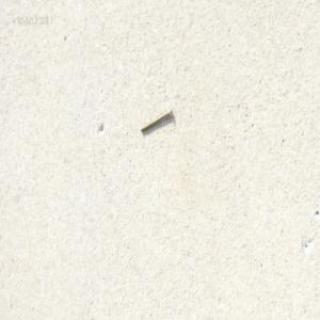Bolttrack_idkeyframe: (138, 106, 172, 133)
